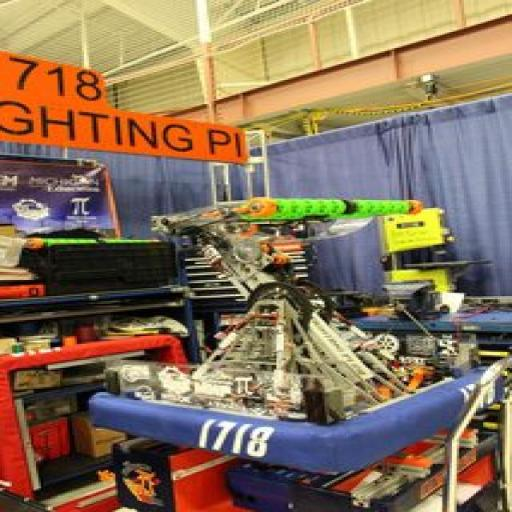robot: (79, 188, 509, 483)
